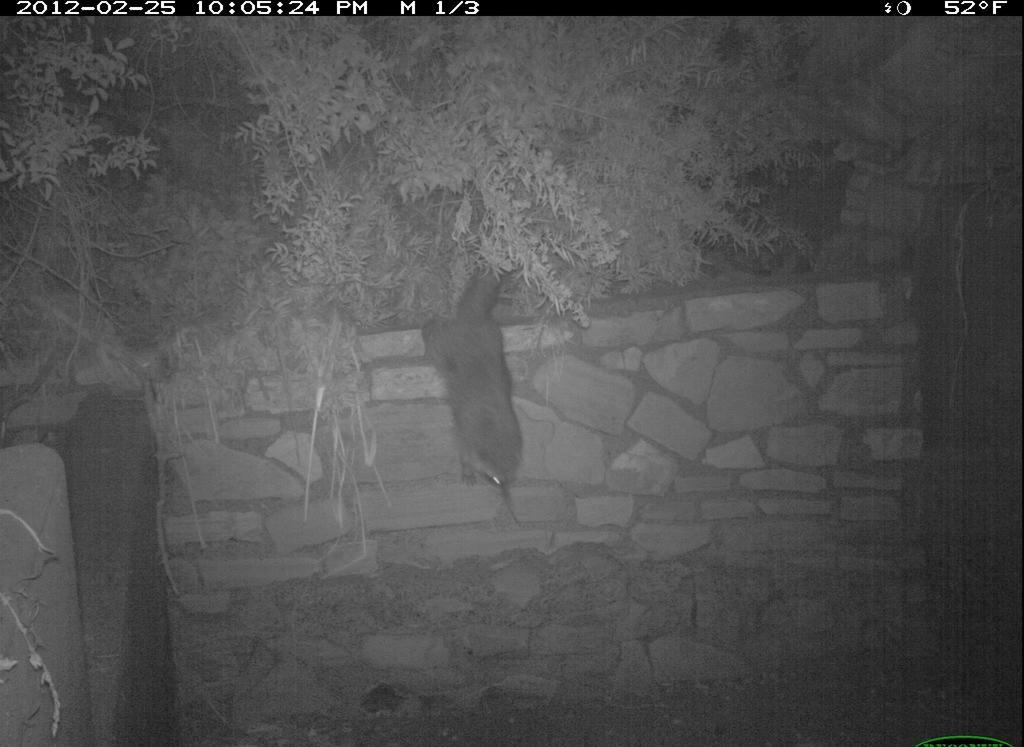raccoon: (410, 253, 537, 507)
